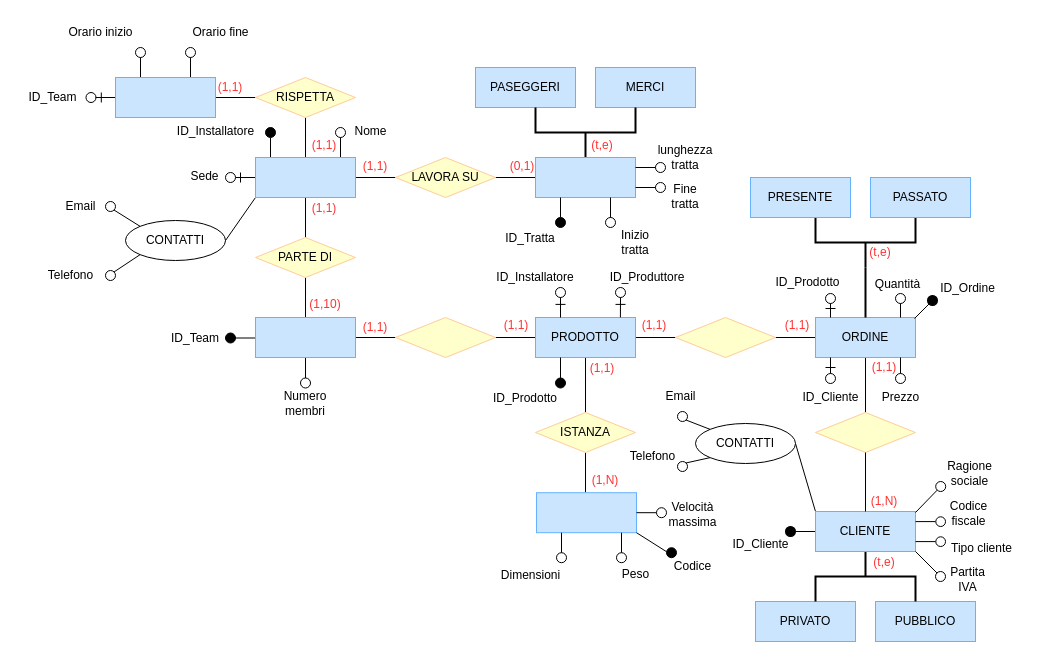
Image size: 1038x659. Some labels were removed from this diagram. Here are the shapes that lost their labels. From the top down, the centre of each, then its label:
the point at 165,97: PROGRAMMA
the point at 305,177: INSTALLATORE
the point at 585,177: TRATTA
the point at 305,337: TEAM
the point at 445,337: INSTALLA
the point at 725,337: INCLUDE
the point at 865,432: EFFETTUA
the point at 586,512: MODELLO
